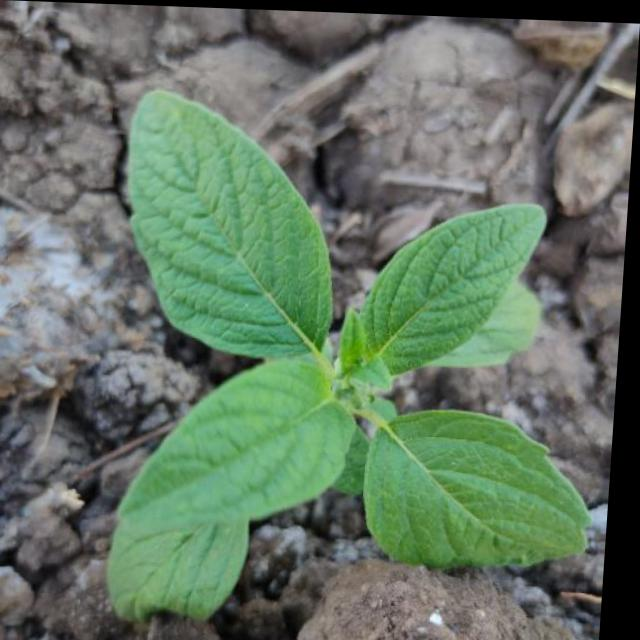crop: (96, 93, 627, 628)
